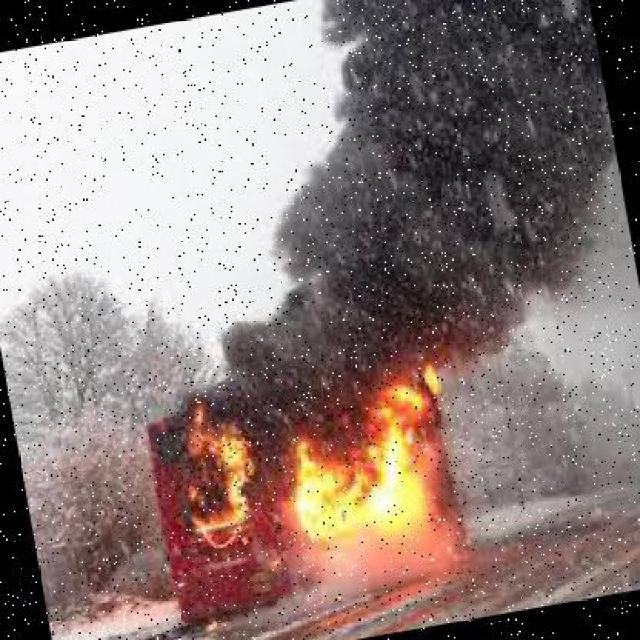fire: (151, 343, 486, 582)
